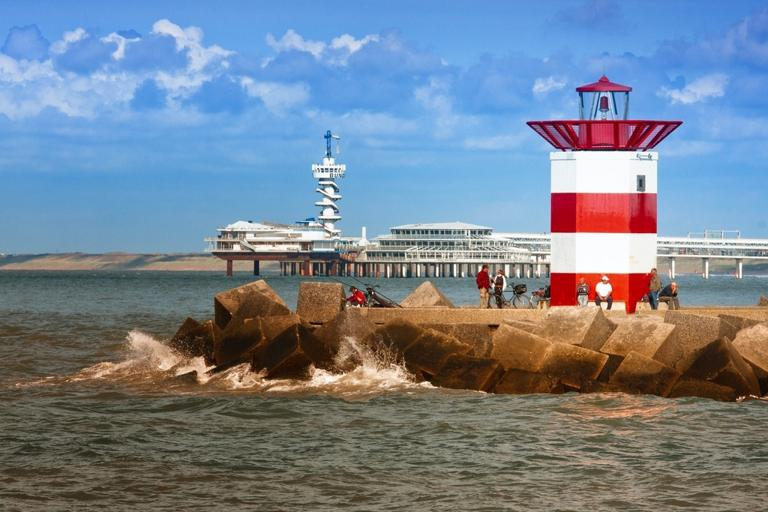non-vehicle: (487, 280, 531, 309), (362, 281, 380, 306)
